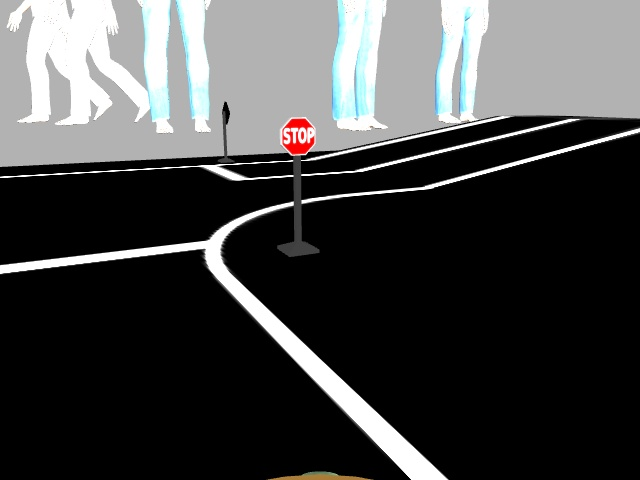Stop: (278, 118, 313, 152)
